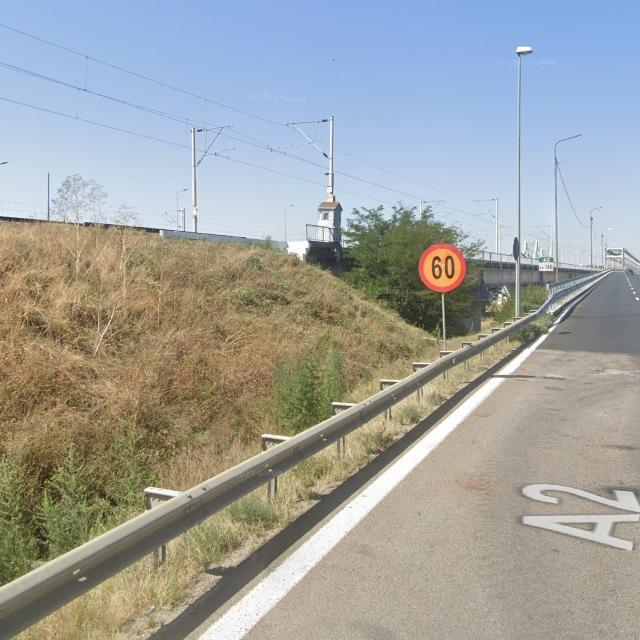forb_speed_over_60: (419, 244, 467, 293)
